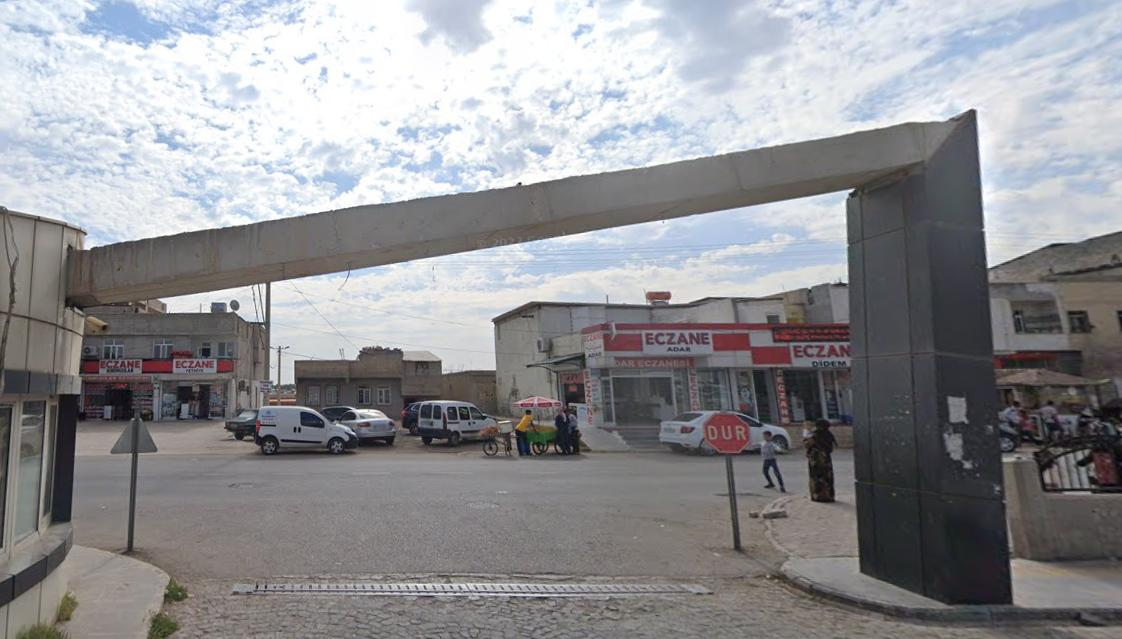stop: (702, 407, 752, 457)
